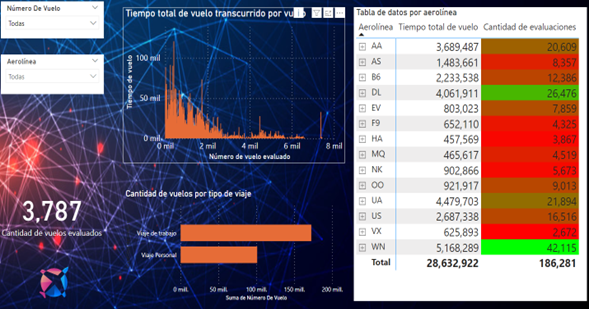

The page's visual inventory and layout, read from the dashboard file:
{"tool":"powerbi","page":{"name":"Vuelos","canvas":[1280,720],"ordinal":2},"visuals":[{"type":"columnChart","title":"Tiempo total de vuelo transcurrido por vuelo","fields":{"Category":["Cruzamiento.Número De Vuelo"],"Y":["Sum(Cruzamiento.Tiempo Transcurrido)"]},"box":[280.8,41.3,468,302.8],"z":0},{"type":"slicer","fields":{"Values":["Cruzamiento.Número De Vuelo"]},"box":[23.4,30.3,217.5,71.6],"z":1000},{"type":"pivotTable","title":"Tabla de datos por aerolínea","fields":{"Rows":["Cruzamiento.Aerolínea","Cruzamiento.Número De Vuelo"],"Values":["Sum(Cruzamiento.Tiempo Transcurrido)","CountNonNull(Cruzamiento.Número De Vuelo)"]},"box":[766.6,41.3,491.4,571.2],"z":2000},{"type":"pageNavigator","box":[45,643.3,1191.7,73.3],"z":3000},{"type":"image","box":[100.1,535.7,70.5,80.8],"z":4000},{"type":"clusteredBarChart","title":"Cantidad de vuelos por tipo de viaje","fields":{"Category":["Cruzamiento.Tipo De Viaje"],"Y":["Sum(Cruzamiento.Número De Vuelo)"]},"box":[280.8,393.6,468,223],"z":5000},{"type":"slicer","fields":{"Values":["Cruzamiento.Aerolínea"]},"box":[23.4,133.5,217.5,77.1],"z":6000},{"type":"card","fields":{"Values":["Count(Cruzamiento.Número De Vuelo)"]},"box":[0,360.6,261.5,159.7],"z":7000}]}

Visuals, with their boxes on the page's 1280x720 design canvas (x1, y1, x2, y2). These are canvas units, not pixel positions in the 589x309 screenshot, which may show the page scaled, cropped or inside an application window:
"Tiempo total de vuelo transcurrido por vuelo" columnChart: 281:41:749:344
slicer - Cruzamiento.Número De Vuelo: 23:30:241:102
"Tabla de datos por aerolínea" pivotTable: 767:41:1258:612
pageNavigator: 45:643:1237:717
image: 100:536:171:616
"Cantidad de vuelos por tipo de viaje" clusteredBarChart: 281:394:749:617
slicer - Cruzamiento.Aerolínea: 23:134:241:211
card - Count(Cruzamiento.Número De Vuelo): 0:361:262:520
